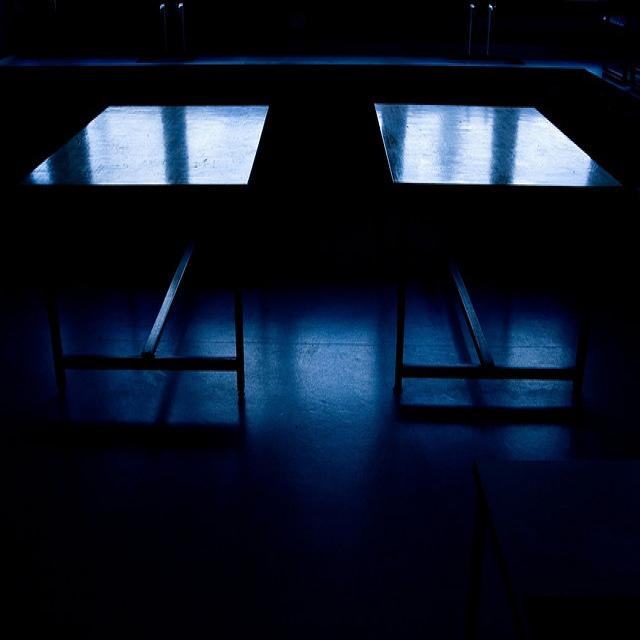Table: (1, 82, 280, 465), (370, 75, 623, 471)
